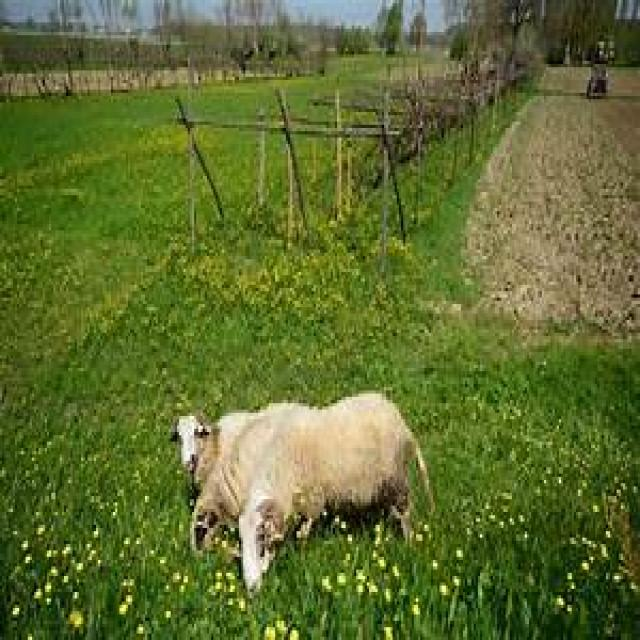sheep: (171, 390, 435, 596)
